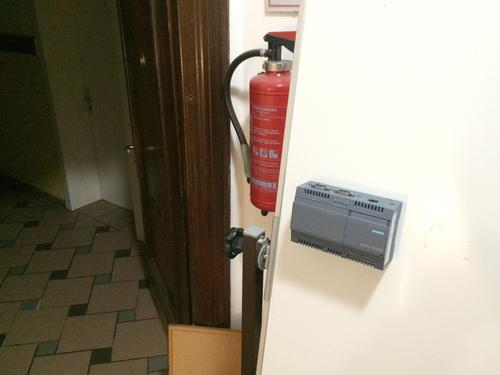iot2000: (290, 180, 404, 272)
